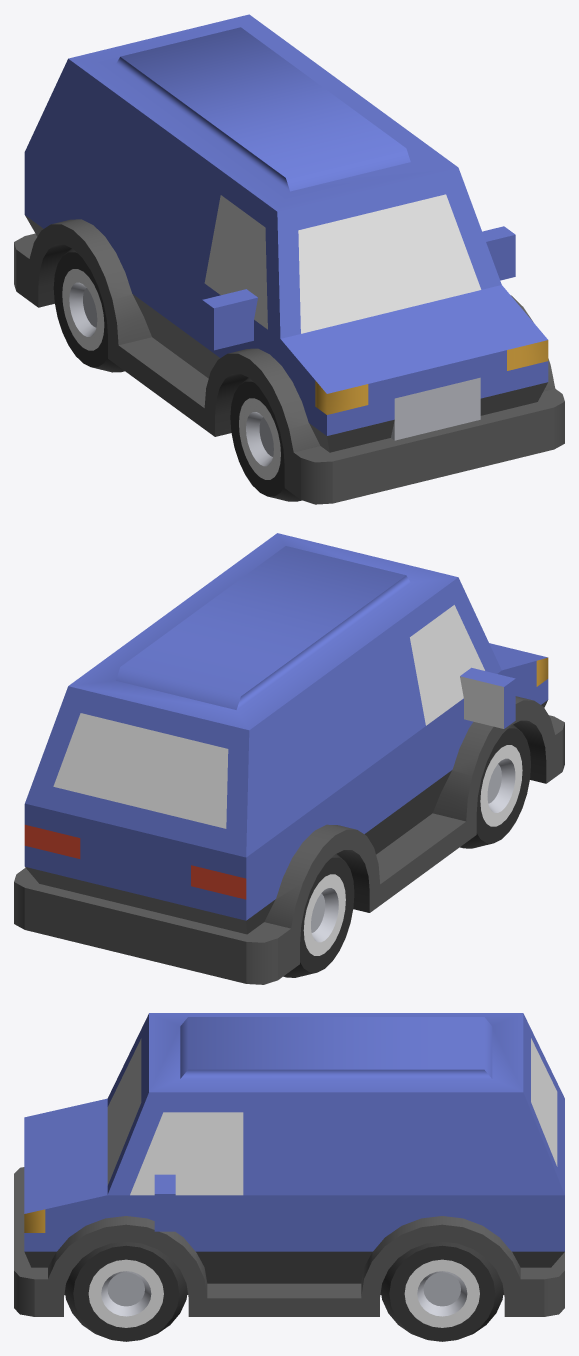
File: van.dae
3 views of the same model, one above another, from view 1: azimuth 30°, elevation 25°; view 2: azimuth 150°, elevation 25°; view 3: azimuth 270°, elevation 25° (orthographic). The views are drawn at different scales.
Parts seen in each view (by area): view 1: body, wheel_frontLeft, wheel_backLeft; view 2: body, wheel_frontLeft, wheel_backLeft; view 3: body, wheel_backRight, wheel_frontRight.
Boxes of the visible parts, left/top/right/bottom form: body: left=14, top=14, right=564, bottom=504; wheel_frontLeft: left=230, top=377, right=301, bottom=501; wheel_backLeft: left=53, top=248, right=124, bottom=372; body: left=14, top=533, right=564, bottom=984; wheel_frontLeft: left=460, top=724, right=530, bottom=848; wheel_backLeft: left=283, top=853, right=354, bottom=977; body: left=14, top=1013, right=564, bottom=1316; wheel_backRight: left=381, top=1241, right=503, bottom=1341; wheel_frontRight: left=65, top=1241, right=187, bottom=1341.
Bounding box in the file's own units: 1.5 × 1.35 × 2.65.
